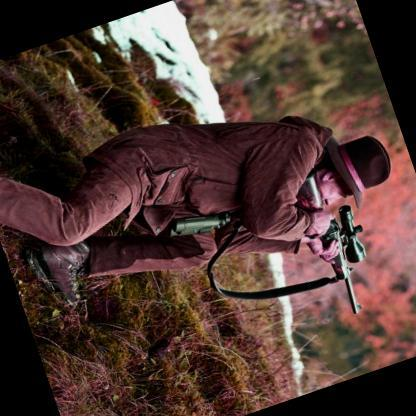rifle: (273, 156, 393, 329)
